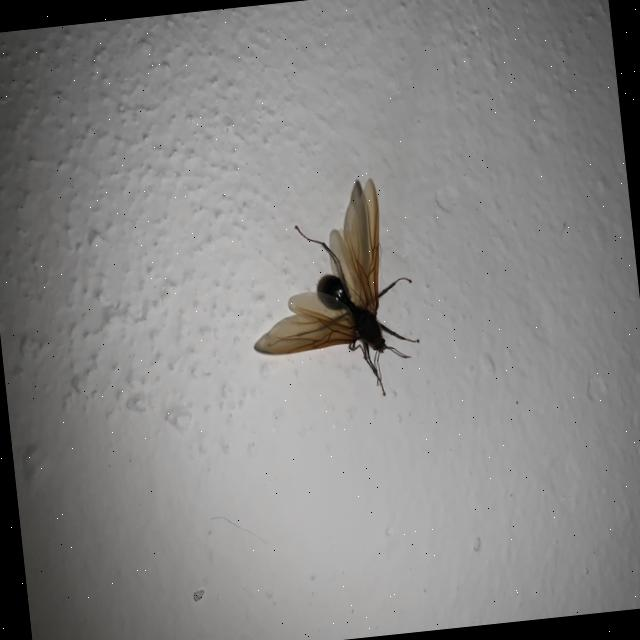Alive-Male-Alate: (246, 174, 424, 408)
